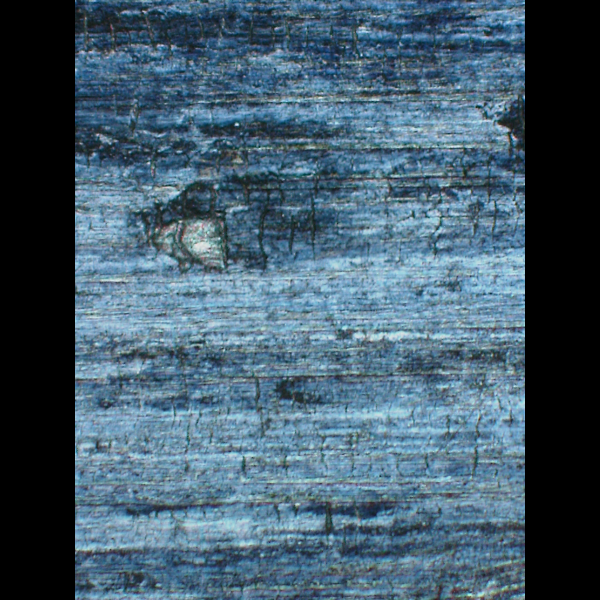d: (124, 171, 251, 277)
